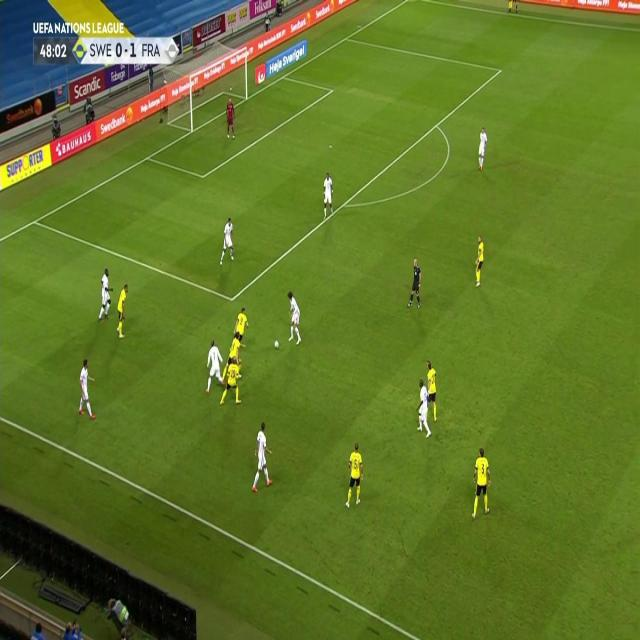ball: (274, 338, 280, 349)
player: (470, 444, 493, 522), (250, 422, 274, 492), (343, 441, 365, 509), (220, 352, 244, 407), (76, 358, 97, 420), (203, 337, 225, 396), (414, 377, 432, 437), (96, 266, 114, 322), (284, 290, 302, 346), (405, 256, 423, 311), (424, 358, 439, 422), (218, 215, 236, 266), (114, 282, 130, 338), (232, 306, 250, 346), (321, 170, 335, 220), (473, 233, 485, 289), (226, 331, 243, 368), (224, 95, 237, 138), (476, 126, 488, 172), (507, 0, 519, 14)
